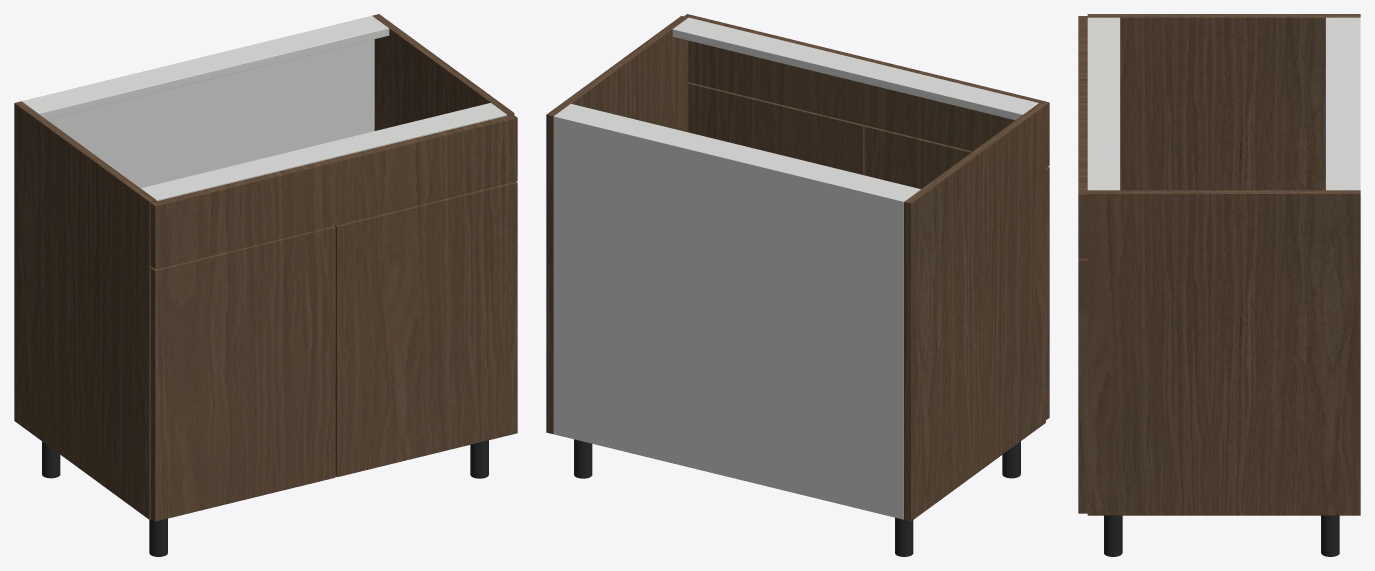
Rendered from oppein-pb-mso-sb36.glb.
The picture shows the model from 3 angles, left to right: view 1: azimuth 30°, elevation 25°; view 2: azimuth 150°, elevation 25°; view 3: azimuth 270°, elevation 25°; orthographic projection.
Parts seen in each view (by area): view 1: Door, Door.001, Cabinet side, Cabinet back, False drawer front, Top support rail, Cabinet side.001, Top support rail.001, Adjustable foot.001, Adjustable foot.003; view 2: Cabinet back, Cabinet side, False drawer front, Cabinet side.001, Door.001, Top support rail.001, Door, Top support rail, Adjustable foot, Adjustable foot.002; view 3: Cabinet side.001, Cabinet side, Top support rail.001, Top support rail, Door.001, False drawer front, Cabinet back, Adjustable foot.003, Adjustable foot.002.
Part boxes in pixels (x1,y1,x2,y2): Door: (150,226,335,521); Door.001: (335,181,517,477); Cabinet side: (14,101,156,519); Cabinet back: (21,15,374,188); False drawer front: (150,114,517,269); Top support rail: (23,17,389,119); Cabinet side.001: (372,14,514,130); Top support rail.001: (141,103,506,201); Adjustable foot.001: (149,518,167,556); Adjustable foot.003: (470,440,488,478); Cabinet back: (553,114,905,519); Cabinet side: (904,103,1045,521); False drawer front: (684,14,1049,167); Cabinet side.001: (546,16,688,434); Door.001: (688,82,865,175); Top support rail.001: (672,17,1038,120); Door: (864,125,1049,419); Top support rail: (556,104,920,199); Adjustable foot: (895,517,913,556); Adjustable foot.002: (574,439,592,478); Cabinet side.001: (1087,190,1360,515); Cabinet side: (1087,14,1360,190); Top support rail.001: (1087,17,1120,190); Top support rail: (1325,17,1357,190); Door.001: (1078,258,1087,513); False drawer front: (1078,16,1087,258); Cabinet back: (1355,17,1360,190); Adjustable foot.003: (1104,515,1122,556); Adjustable foot.002: (1321,515,1339,556).
Size of the model in its own units: 0.9144 by 0.8763 by 0.6064.
Materials: 3 (1 with a texture image).
